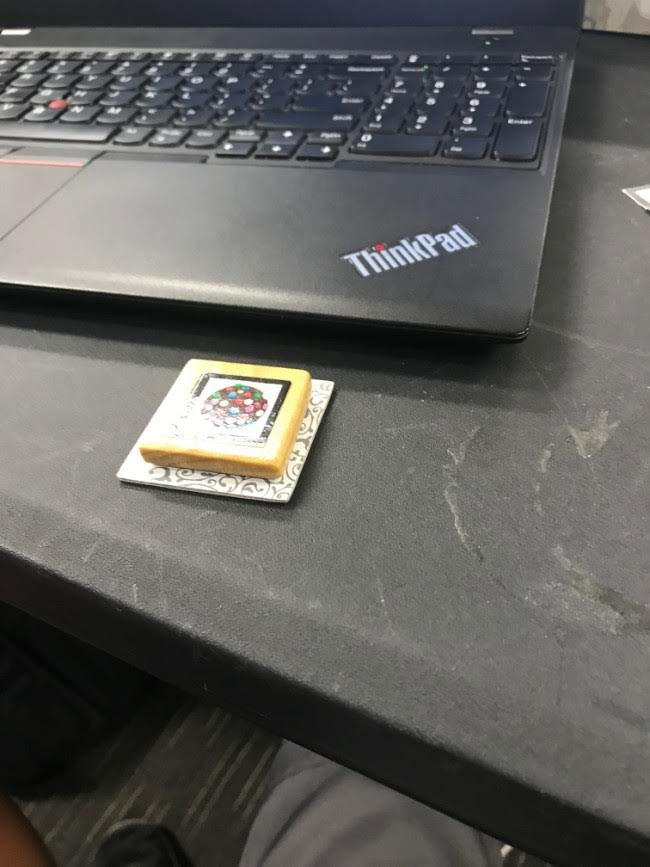cookie: (167, 372, 292, 449)
